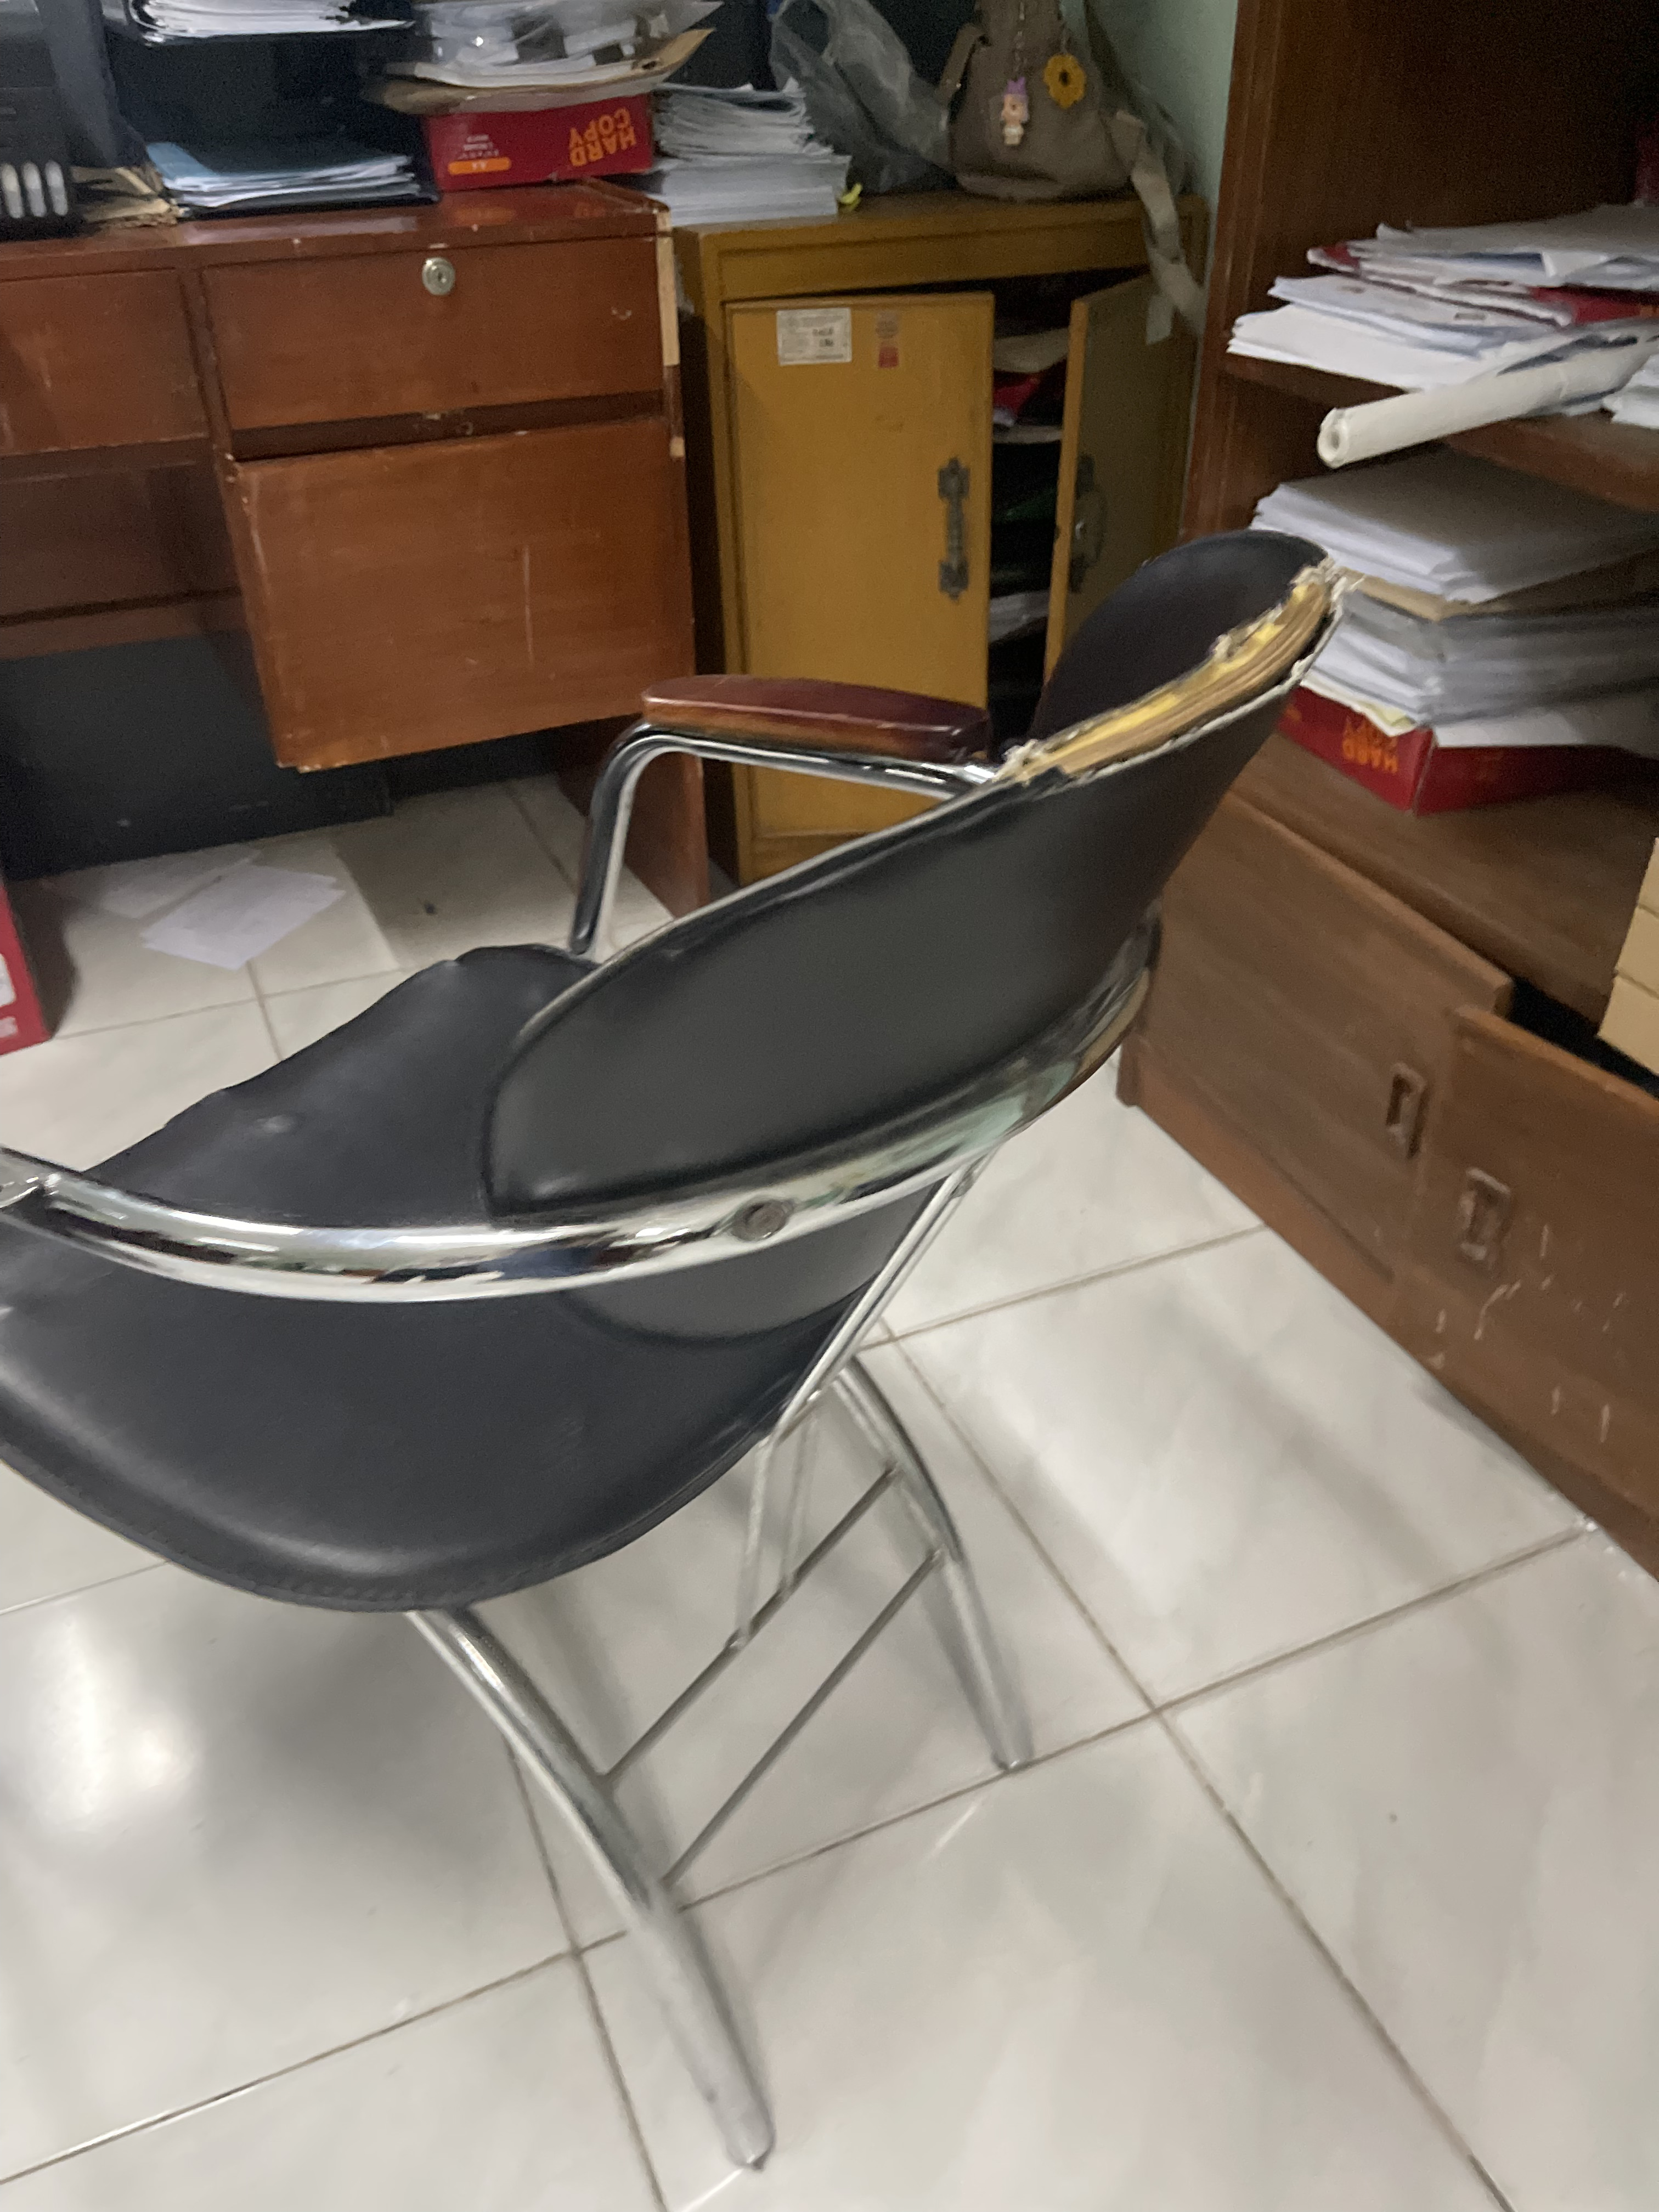chair1: (3, 512, 1323, 2172)
